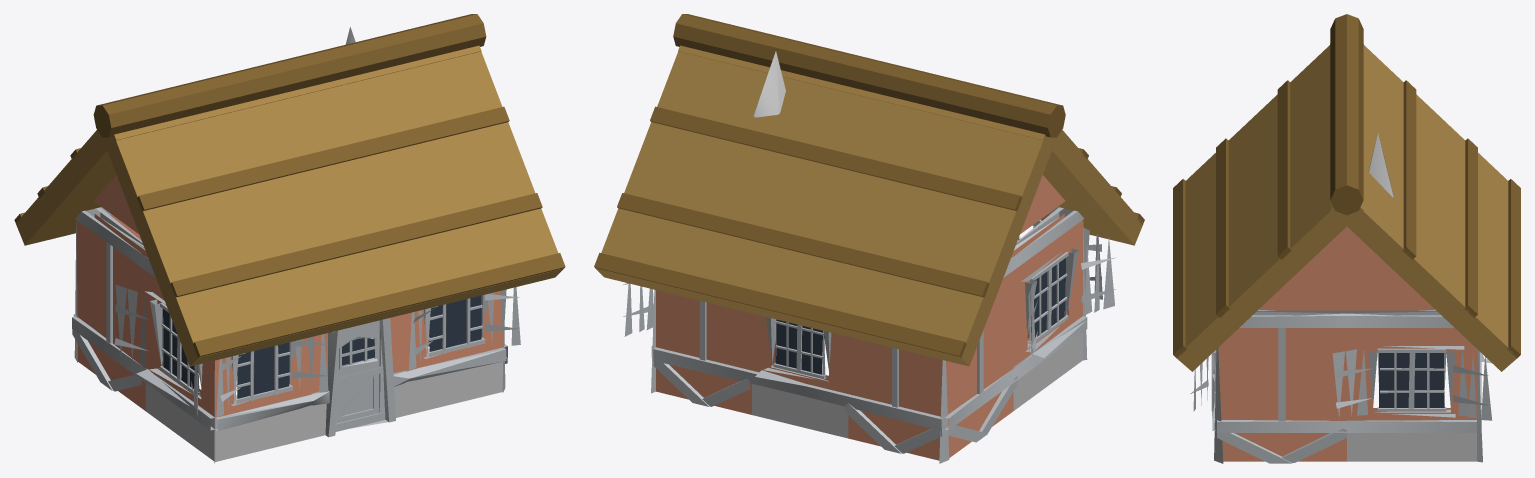
The model's file is generated.cottage_thatch.gltf.
3 renders of one model, left to right at view 1: azimuth 30°, elevation 25°; view 2: azimuth 150°, elevation 25°; view 3: azimuth 270°, elevation 25°, orthographic. The views are drawn at different scales.
Parts seen in each view (by area): view 1: lod; view 2: lod; view 3: lod.
Boxes of the visible parts, x1,y1,x2,y2 form: lod: (14, 14, 565, 463); lod: (594, 14, 1144, 463); lod: (1173, 14, 1520, 463).
Bounding box in the file's own units: 7.8 × 6.35 × 6.7.
